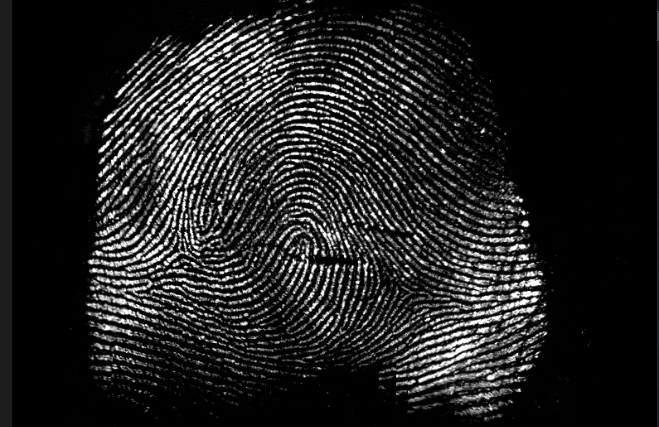deltas: (150, 221, 210, 271), (381, 259, 425, 320)
nucleo: (264, 218, 324, 282)
